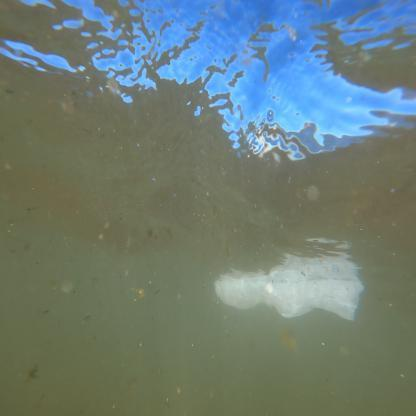Rác: (211, 222, 368, 332)
